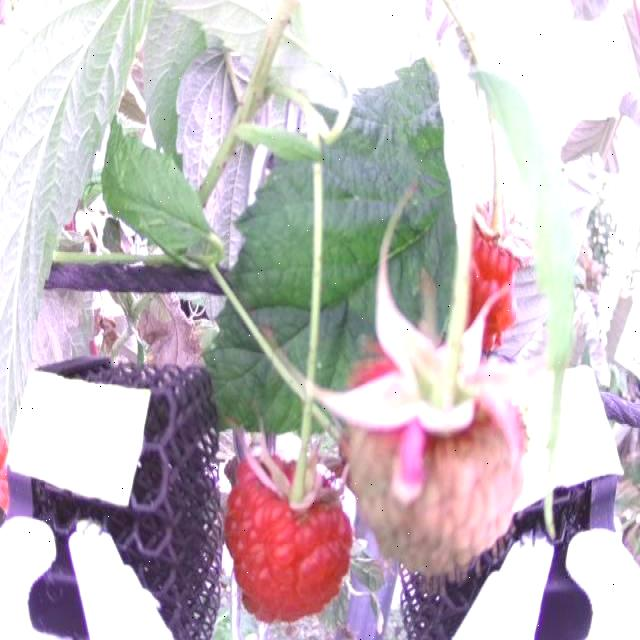Riped berries: (227, 440, 352, 618), (452, 195, 540, 327)
